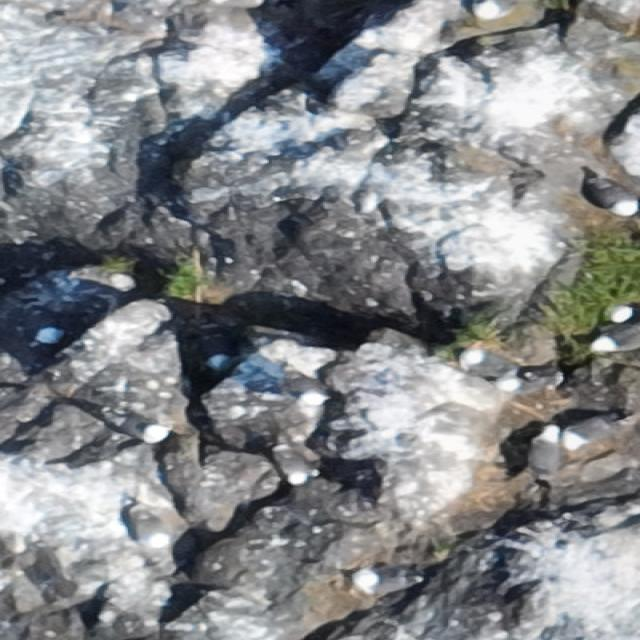umineko: (561, 411, 630, 452), (20, 300, 69, 346), (588, 175, 640, 216), (350, 566, 421, 594), (530, 424, 561, 484), (131, 503, 170, 548), (198, 326, 236, 372), (585, 325, 640, 356), (273, 446, 310, 487), (108, 413, 164, 439), (461, 349, 517, 375), (470, 0, 517, 19), (605, 304, 636, 322)
